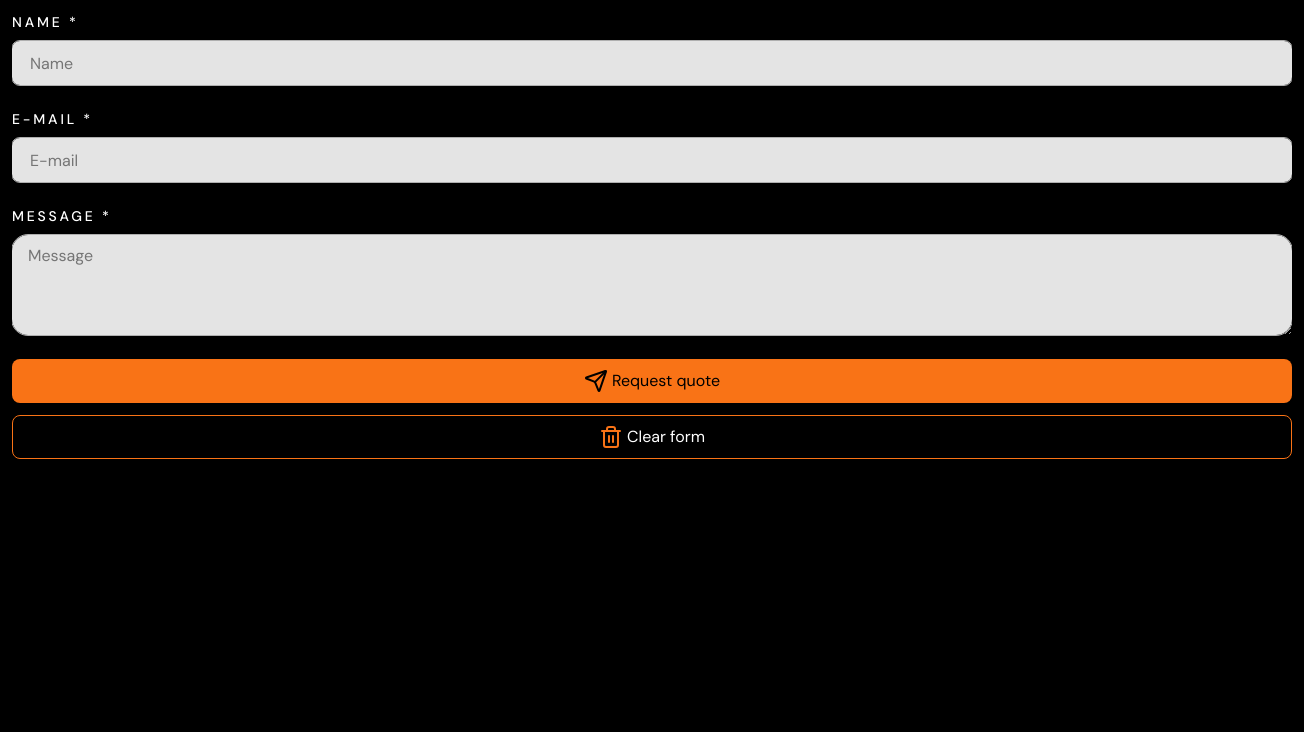
Form › shows a required error on every field when submitted empty
Click the button "Request quote" at (652, 381), box [12,359,1292,403]
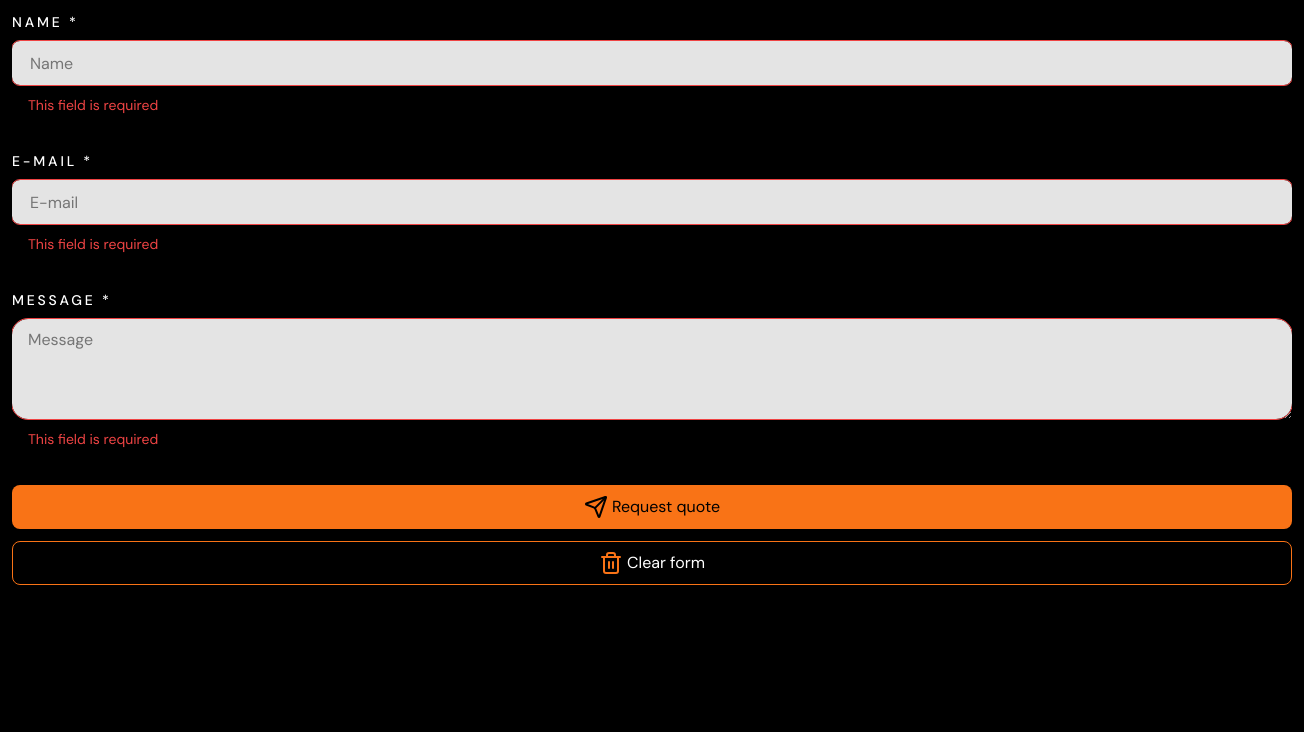
Check: the text "This field is required" is shown 3 times, box [28,96,158,114]; [28,235,158,253]; [28,430,158,448]
